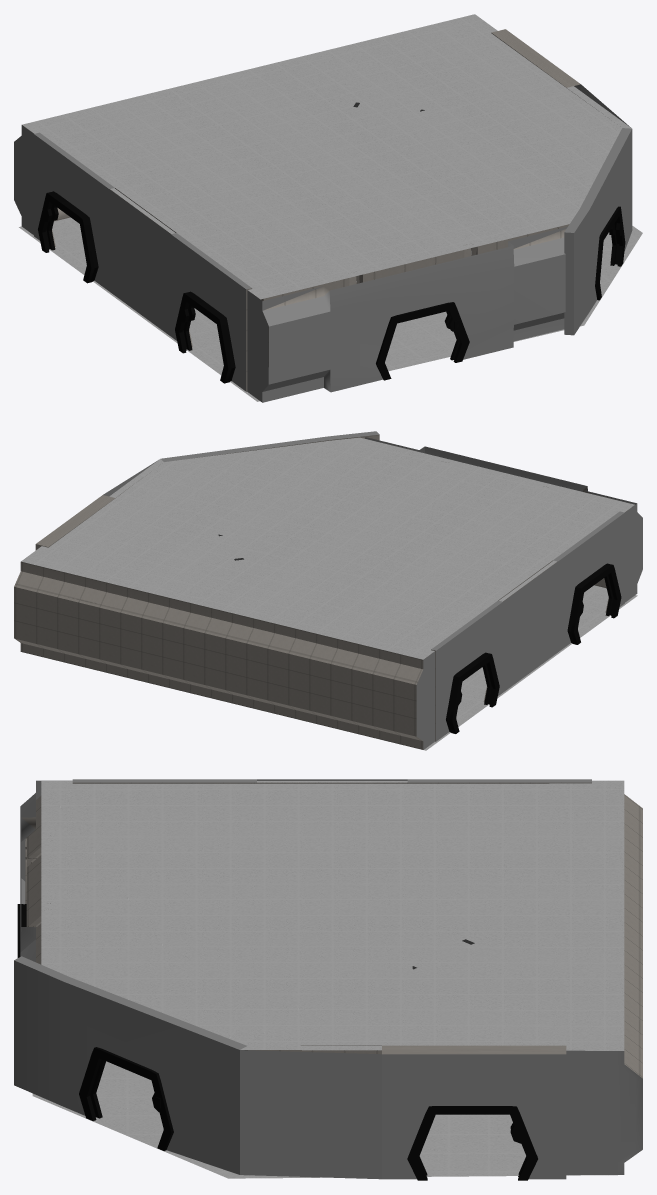
The model's file is hall.obj.
3 renders of one model, top to bottom at view 1: azimuth 30°, elevation 25°; view 2: azimuth 150°, elevation 25°; view 3: azimuth 270°, elevation 25°, orthographic. The views are drawn at different scales.
Visible parts, largest first — view 1: polySurface2, polySurface1169, polySurface76, polySurface1173, polySurface1, hall2:pPlane5, polySurface149, paredesta, pasted__polySurface149; view 2: polySurface2, polySurface1172, polySurface76, hall2:pPlane5, polySurface1, polySurface1173, polySurface1169; view 3: polySurface2, polySurface1173, polySurface1, polySurface1172, polySurface76, pasted__polySurface149, pasted__polySurface70, paredesta, polySurface1169.
Part boxes in pixels (x1,y1,x2,y2): polySurface2: (22, 14, 631, 299); polySurface1169: (262, 226, 567, 402); polySurface76: (14, 125, 268, 402); polySurface1173: (491, 29, 632, 335); polySurface1: (19, 217, 642, 401); hall2:pPlane5: (38, 191, 235, 383); polySurface149: (376, 302, 469, 380); paredesta: (263, 224, 569, 300); pasted__polySurface149: (595, 206, 625, 300); polySurface2: (21, 437, 634, 659); polySurface1172: (14, 561, 423, 749); polySurface76: (416, 504, 642, 749); hall2:pPlane5: (446, 563, 621, 733); polySurface1: (424, 585, 637, 750); polySurface1173: (35, 431, 379, 550); polySurface1169: (365, 437, 636, 506); polySurface2: (41, 780, 624, 1050); polySurface1173: (14, 956, 642, 1179); polySurface1: (32, 1061, 617, 1178); polySurface1172: (624, 794, 642, 1078); polySurface76: (21, 779, 591, 881); pasted__polySurface149: (79, 1047, 173, 1150); pasted__polySurface70: (407, 1106, 537, 1180); paredesta: (26, 796, 41, 964); polySurface1169: (20, 793, 50, 962).
Size of the model in its own units: 97.56 by 20.57 by 92.82.
